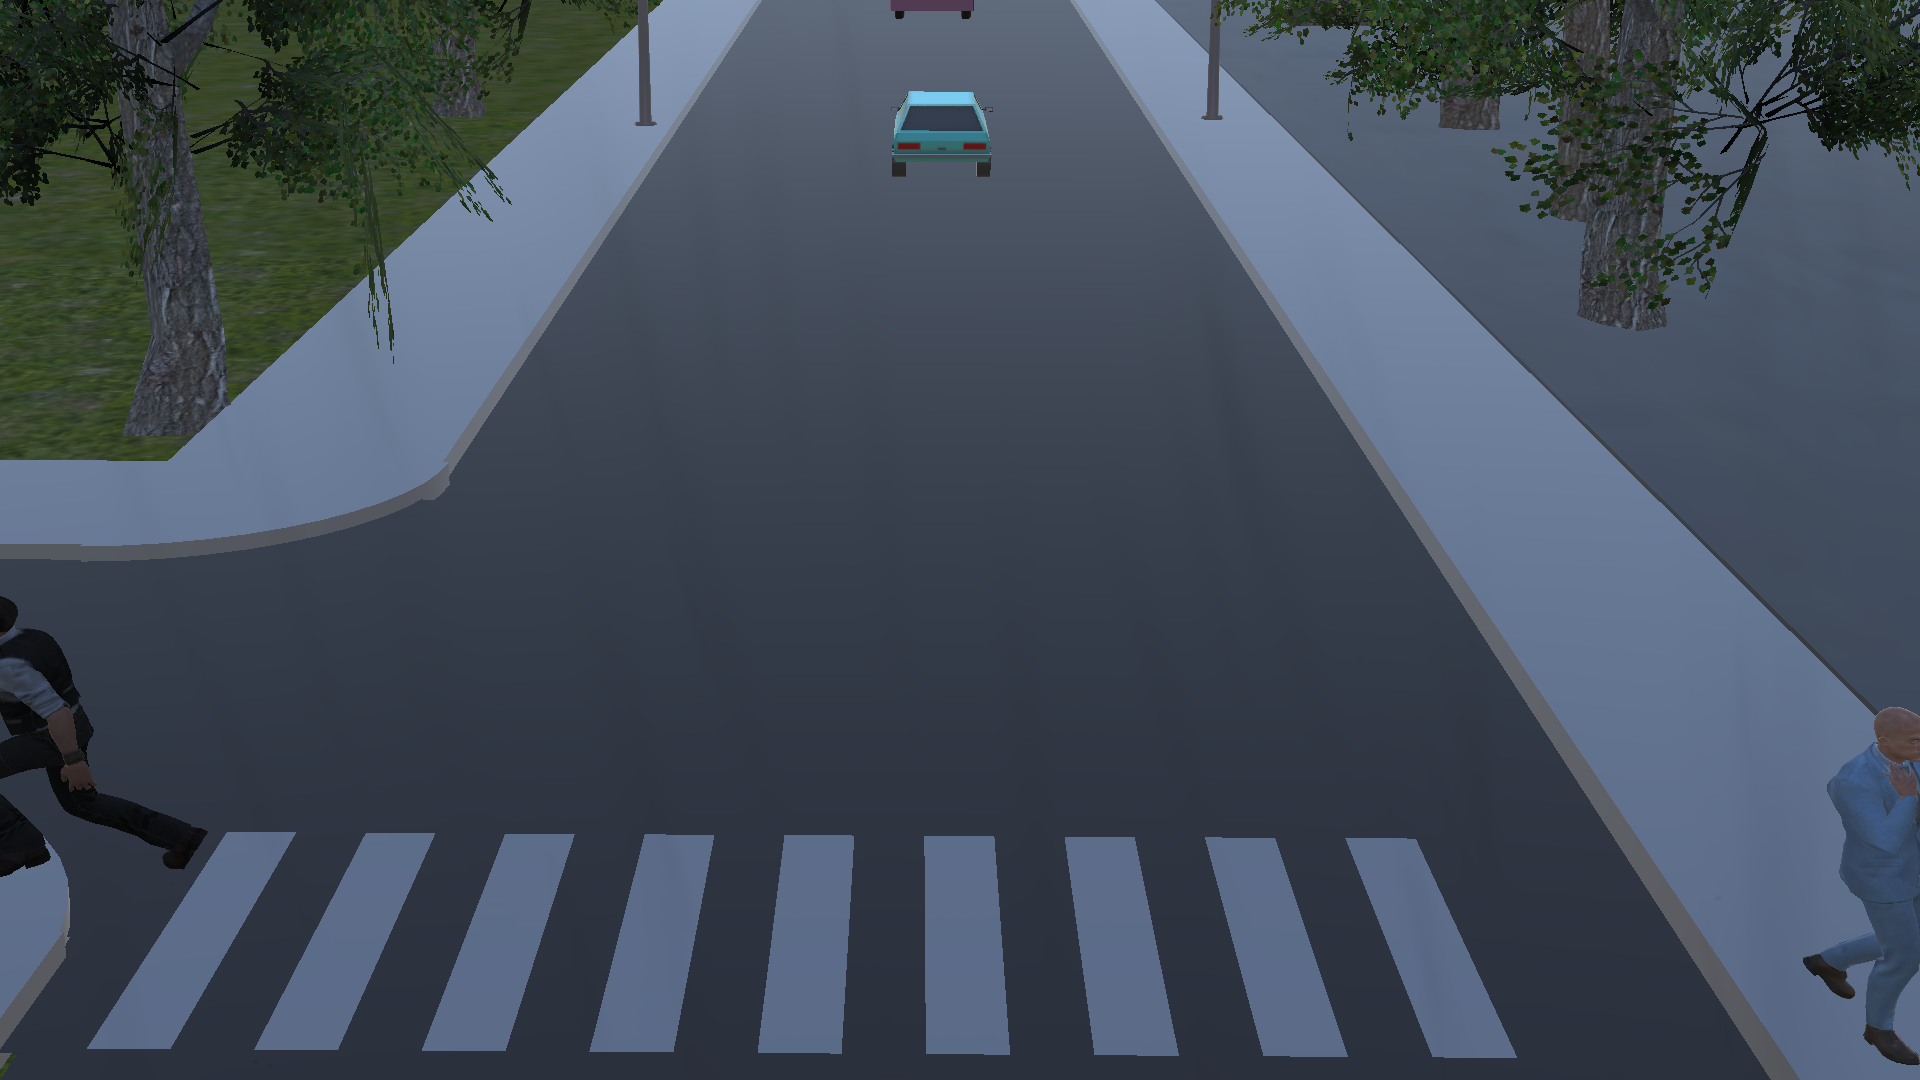pedestrian: (1, 601, 208, 912), (1795, 679, 1920, 1067)
